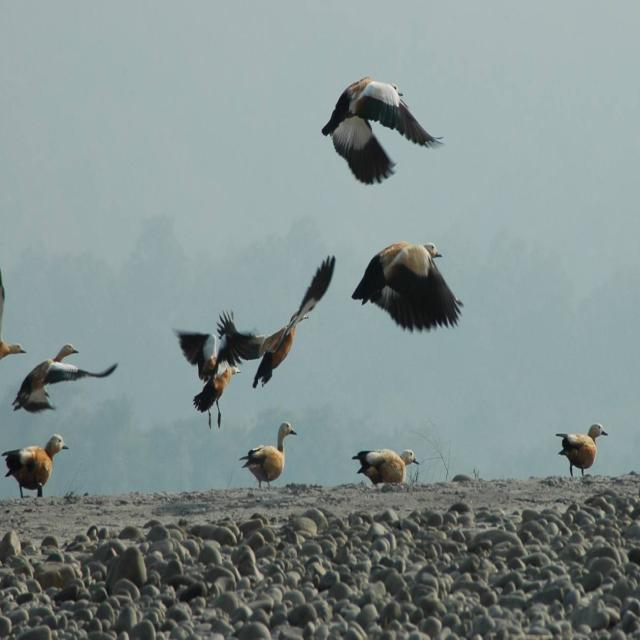bird: (223, 252, 339, 396), (321, 80, 444, 188), (350, 240, 460, 333), (5, 344, 118, 417), (176, 315, 250, 426), (2, 439, 71, 506), (238, 422, 302, 492), (553, 422, 611, 483), (351, 448, 424, 491)
